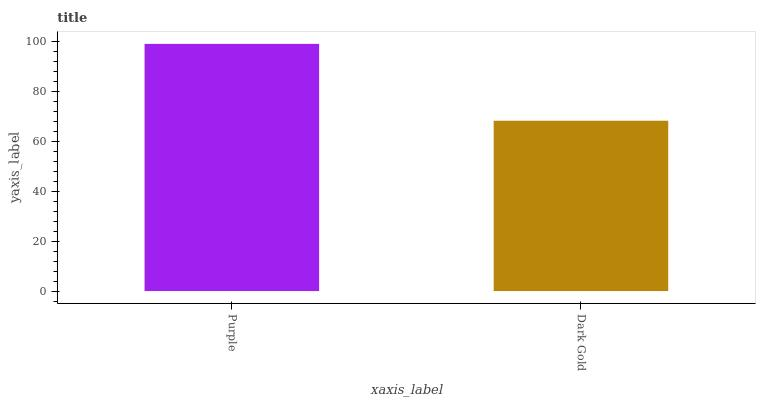axis: (49, 34, 65, 300)
label: (571, 312, 595, 377), (222, 312, 242, 356)
rectangle: (145, 44, 320, 291), (495, 121, 668, 291)
title: (52, 7, 93, 28)
